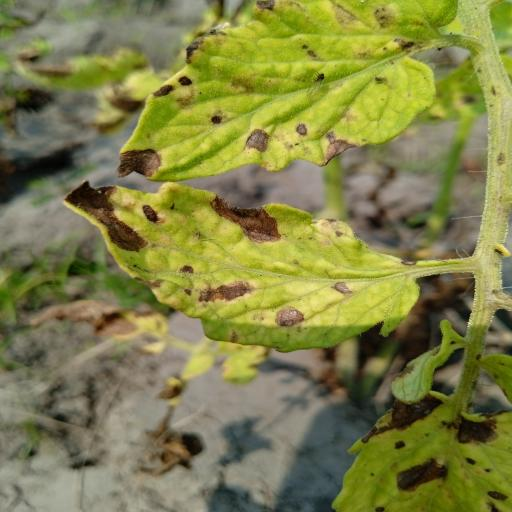Tomato_Brown_Spots: (50, 178, 425, 358), (118, 0, 468, 177)
